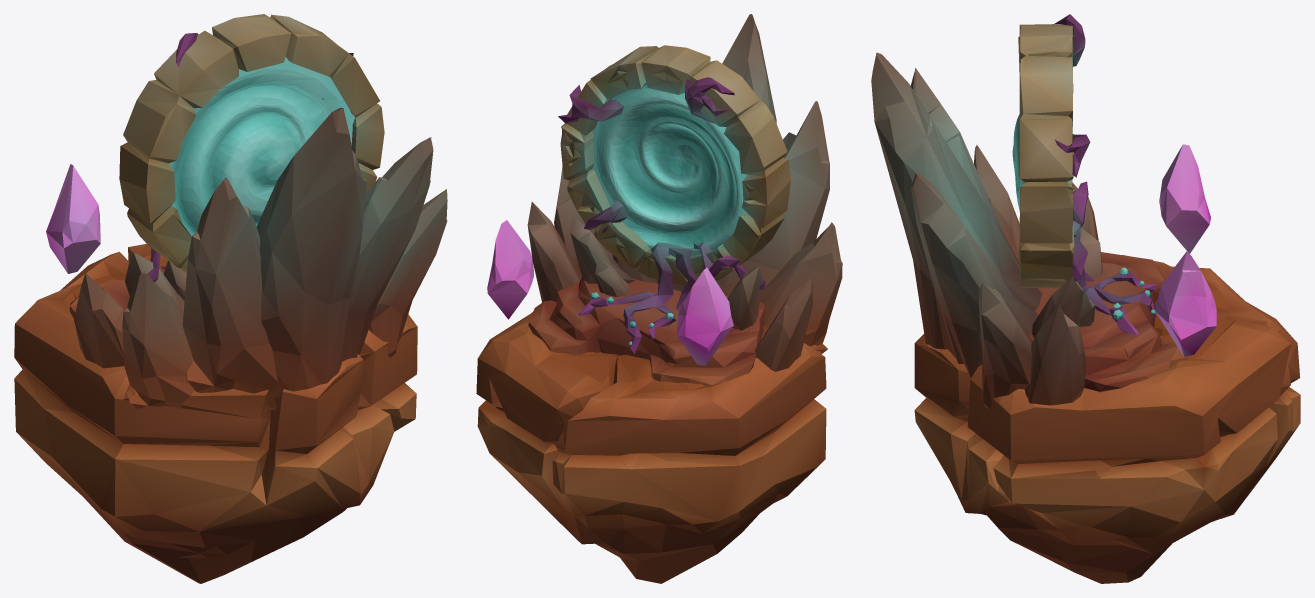
The model's file is DevelopedWater.fbx.
3 views of the same model, side by side, from view 1: azimuth 30°, elevation 25°; view 2: azimuth 150°, elevation 25°; view 3: azimuth 270°, elevation 25° (orthographic). The views are drawn at different scales.
Parts seen in each view (by area): view 1: Merged_Recovered_Tool3, Merged_Recovered_Tool4, Merged_Recovered_Tool4_1; view 2: Merged_Recovered_Tool3, Merged_Recovered_Tool4, Merged_Recovered_Tool4_1; view 3: Merged_Recovered_Tool3, Merged_Recovered_Tool4_1.
Part boxes in pixels (x1,y1,x2,y2): Merged_Recovered_Tool3: (14,14,447,583); Merged_Recovered_Tool4: (169,57,354,236); Merged_Recovered_Tool4_1: (46,164,100,273); Merged_Recovered_Tool3: (476,14,842,583); Merged_Recovered_Tool4: (592,84,747,257); Merged_Recovered_Tool4_1: (487,220,733,365); Merged_Recovered_Tool3: (871,14,1300,583); Merged_Recovered_Tool4_1: (1155,144,1216,356).
Bounding box in the file's own units: 1.87 × 3.16 × 2.21.
